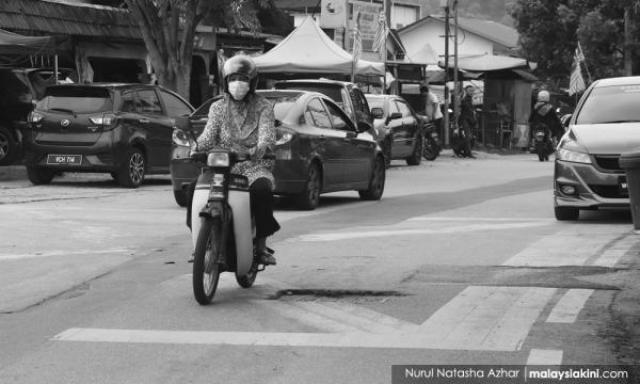Pothole: (269, 289, 416, 301)
